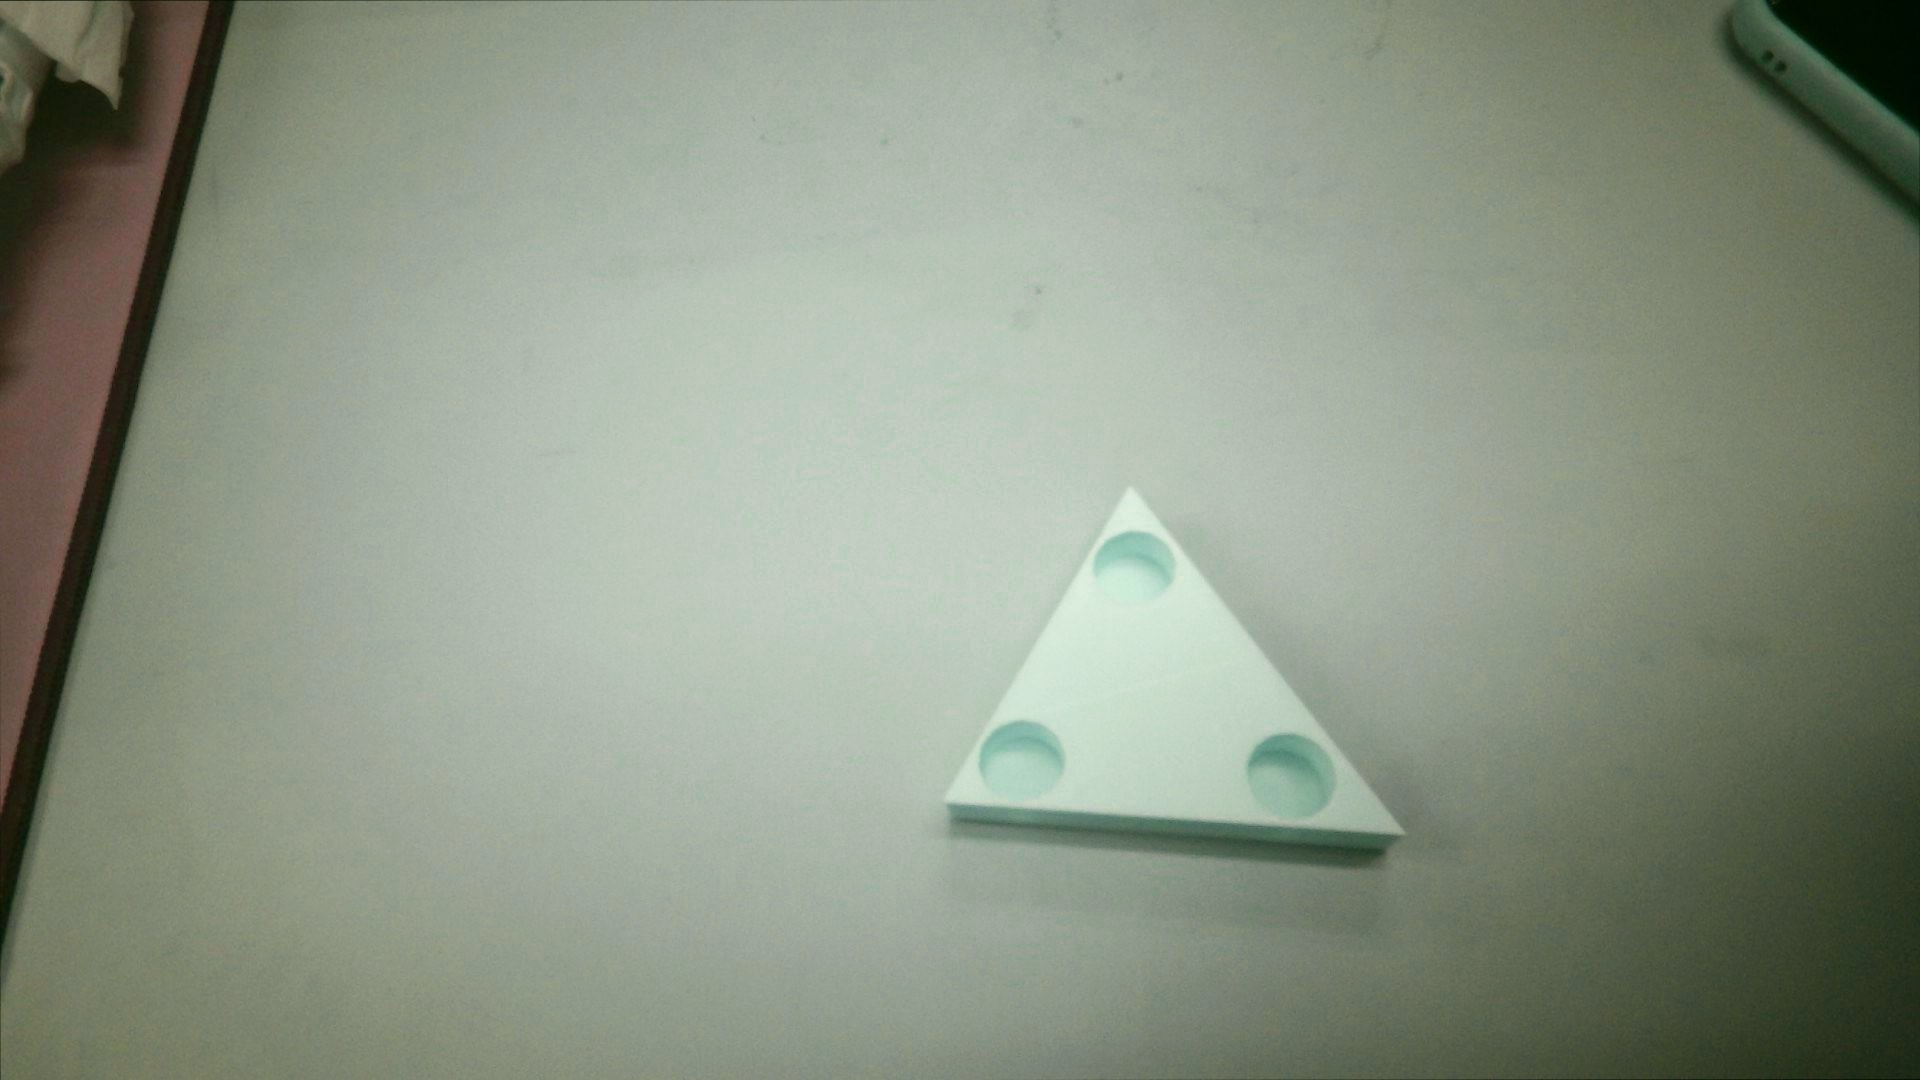hole: (978, 704, 1073, 818), (1079, 524, 1178, 608), (1250, 737, 1338, 820)
obj: (932, 469, 1418, 869)
